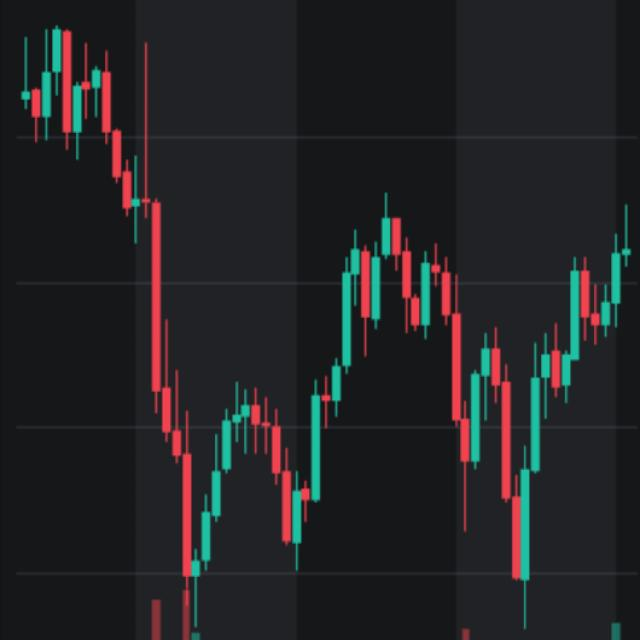Resistance-Emerging: (279, 188, 636, 566)
